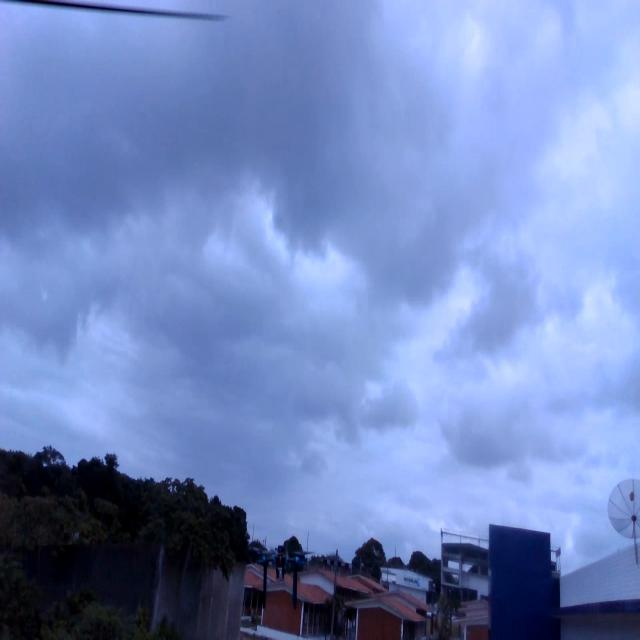-uav-: (244, 539, 318, 612)
